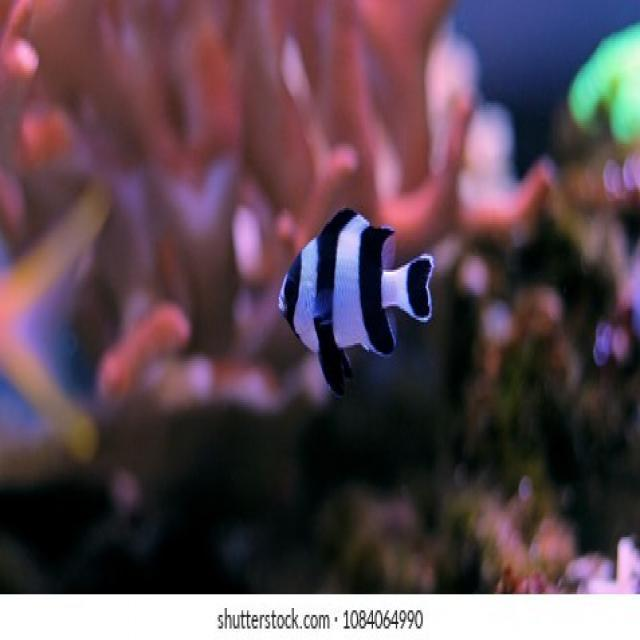Three_striped DasmselFish: (276, 204, 437, 400)
